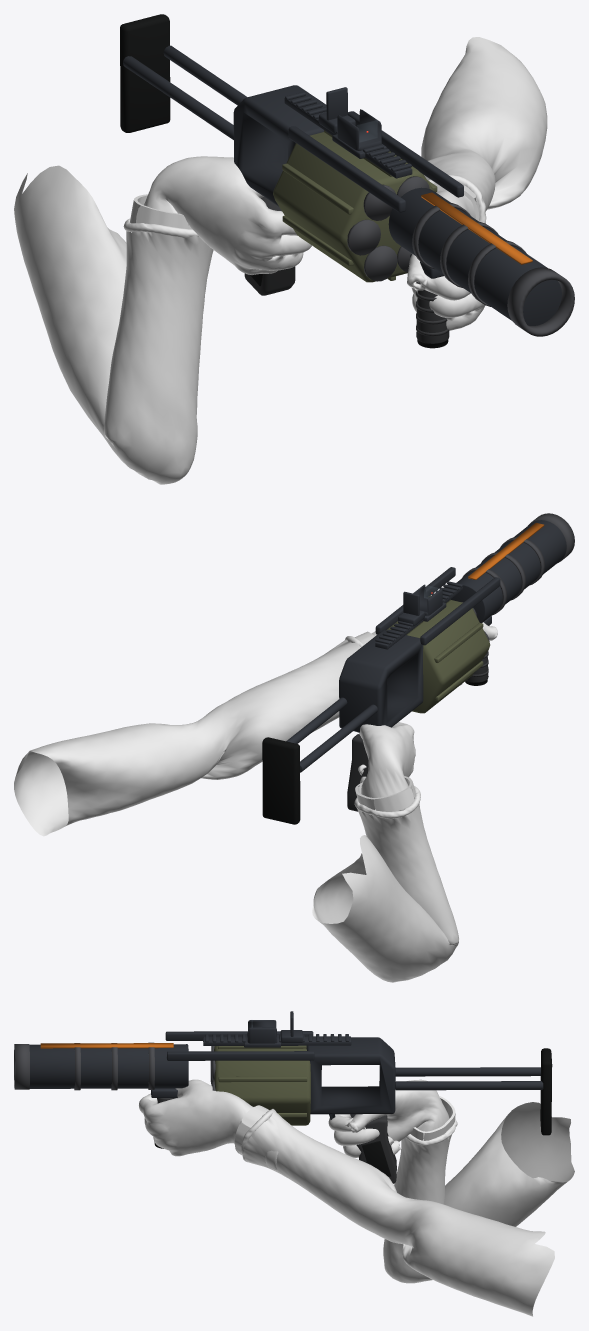
Rendered from FP_launcher.glb.
3 views of the same model, one above another, from view 1: azimuth 30°, elevation 25°; view 2: azimuth 150°, elevation 25°; view 3: azimuth 270°, elevation 25° (orthographic). The views are drawn at different scales.
Visible parts, largest first — view 1: FP_launcher_Arms, W_launcher_Mesh.001; view 2: FP_launcher_Arms, W_launcher_Mesh.001; view 3: FP_launcher_Arms, W_launcher_Mesh.001.
Boxes of the visible parts, <box> form: FP_launcher_Arms: <box>14,37,547,484</box>; W_launcher_Mesh.001: <box>120,14,574,348</box>; FP_launcher_Arms: <box>14,622,497,982</box>; W_launcher_Mesh.001: <box>262,513,574,824</box>; FP_launcher_Arms: <box>139,1079,574,1316</box>; W_launcher_Mesh.001: <box>14,1011,552,1183</box>.
Size of the model in its own units: 0.5494 by 0.4454 by 0.7591.
